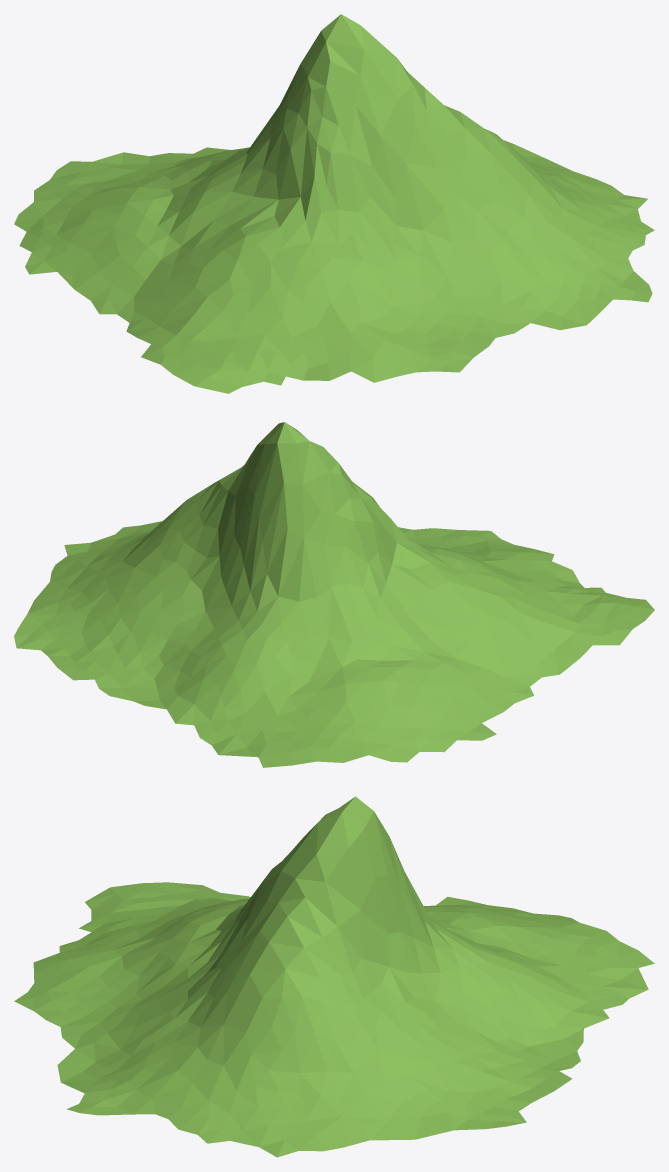
File: MT_Mountain_L_a_13_LOD.fbx
The picture shows the model from 3 angles, top to bottom: view 1: azimuth 30°, elevation 25°; view 2: azimuth 150°, elevation 25°; view 3: azimuth 270°, elevation 25°; orthographic projection. The views are drawn at different scales.
Visible parts, largest first — view 1: MT_Mountain_L_a_13_LOD0; view 2: MT_Mountain_L_a_13_LOD0; view 3: MT_Mountain_L_a_13_LOD0.
Part boxes in pixels (x1,y1,x2,y2): MT_Mountain_L_a_13_LOD0: (14,14,654,393); MT_Mountain_L_a_13_LOD0: (14,422,654,767); MT_Mountain_L_a_13_LOD0: (14,796,654,1157).
Size of what is drawn, in the model's own units: 7735 by 3149 by 7723.
